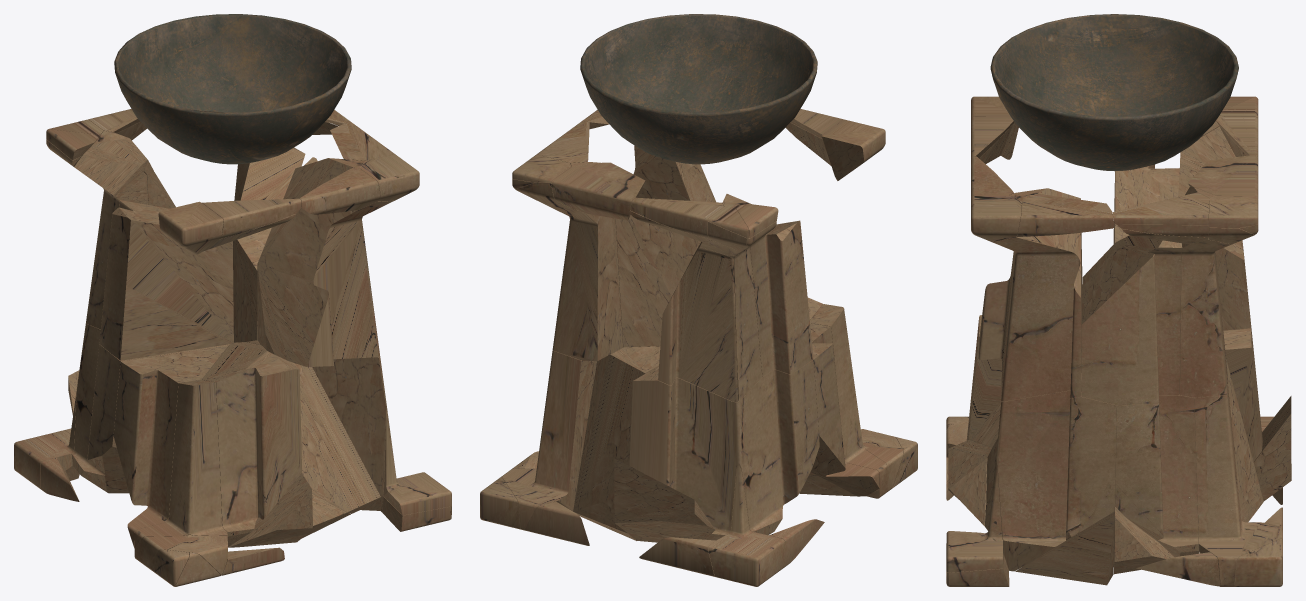
The model's file is Broken Brazier.fbx.
3 views of the same model, side by side, from view 1: azimuth 30°, elevation 25°; view 2: azimuth 150°, elevation 25°; view 3: azimuth 270°, elevation 25° (orthographic). The views are drawn at different scales.
Parts seen in each view (by area): view 1: Sphere_metal_0, Cube_Stone_0_cell.063, Cube_Stone_0_cell.034, Cube_Stone_0_cell.062, Cube_Stone_0_cell.083, Cube_Stone_0_cell.077, Cube_Stone_0_cell.013, Cube_Stone_0_cell.089, Cube_Stone_0_cell.008, Cube_Stone_0_cell.075, Cube_Stone_0_cell.091, Cube_Stone_0_cell.049 (+18 smaller); view 2: Sphere_metal_0, Cube_Stone_0_cell.095, Cube_Stone_0_cell.089, Cube_Stone_0_cell.041, Cube_Stone_0_cell.078, Cube_Stone_0_cell.097, Cube_Stone_0_cell.079, Cube_Stone_0_cell.034, Cube_Stone_0_cell.075, Cube_Stone_0_cell.083, Cube_Stone_0_cell.058, Cube_Stone_0_cell.039 (+20 smaller); view 3: Sphere_metal_0, Cube_Stone_0_cell.008, Cube_Stone_0_cell.075, Cube_Stone_0_cell.063, Cube_Stone_0_cell.050, Cube_Stone_0_cell.079, Cube_Stone_0_cell.078, Cube_Stone_0_cell.036, Cube_Stone_0_cell.020, Cube_Stone_0_cell.095, Cube_Stone_0_cell.021, Cube_Stone_0_cell.041 (+26 smaller).
Part boxes in pixels (bbox=[...]): Sphere_metal_0: bbox=[114, 14, 351, 164]; Cube_Stone_0_cell.063: bbox=[257, 158, 394, 366]; Cube_Stone_0_cell.034: bbox=[99, 200, 233, 360]; Cube_Stone_0_cell.062: bbox=[202, 342, 301, 546]; Cube_Stone_0_cell.083: bbox=[113, 345, 228, 548]; Cube_Stone_0_cell.077: bbox=[134, 379, 227, 548]; Cube_Stone_0_cell.013: bbox=[247, 340, 380, 513]; Cube_Stone_0_cell.089: bbox=[71, 323, 232, 493]; Cube_Stone_0_cell.008: bbox=[233, 342, 387, 510]; Cube_Stone_0_cell.075: bbox=[233, 147, 317, 342]; Cube_Stone_0_cell.091: bbox=[228, 473, 312, 547]; Cube_Stone_0_cell.049: bbox=[74, 131, 147, 195]; Sphere_metal_0: bbox=[580, 14, 817, 164]; Cube_Stone_0_cell.095: bbox=[629, 366, 736, 540]; Cube_Stone_0_cell.089: bbox=[732, 360, 819, 535]; Cube_Stone_0_cell.041: bbox=[658, 242, 738, 401]; Cube_Stone_0_cell.078: bbox=[545, 162, 622, 361]; Cube_Stone_0_cell.097: bbox=[573, 346, 660, 540]; Cube_Stone_0_cell.079: bbox=[501, 350, 596, 530]; Cube_Stone_0_cell.034: bbox=[696, 220, 813, 376]; Cube_Stone_0_cell.075: bbox=[615, 215, 697, 347]; Cube_Stone_0_cell.083: bbox=[799, 323, 879, 496]; Cube_Stone_0_cell.058: bbox=[614, 458, 715, 542]; Cube_Stone_0_cell.039: bbox=[708, 466, 785, 586]; Sphere_metal_0: bbox=[990, 14, 1238, 171]; Cube_Stone_0_cell.008: bbox=[996, 373, 1116, 571]; Cube_Stone_0_cell.075: bbox=[1081, 235, 1182, 405]; Cube_Stone_0_cell.063: bbox=[978, 188, 1082, 401]; Cube_Stone_0_cell.050: bbox=[1115, 394, 1198, 557]; Cube_Stone_0_cell.079: bbox=[1194, 384, 1282, 586]; Cube_Stone_0_cell.078: bbox=[1179, 186, 1231, 397]; Cube_Stone_0_cell.036: bbox=[1015, 511, 1114, 585]; Cube_Stone_0_cell.020: bbox=[1017, 193, 1114, 236]; Cube_Stone_0_cell.095: bbox=[1223, 325, 1262, 461]; Cube_Stone_0_cell.021: bbox=[946, 459, 1003, 572]; Cube_Stone_0_cell.041: bbox=[1178, 166, 1250, 330].
Bounding box in the file's own units: 200 × 296 × 205.
